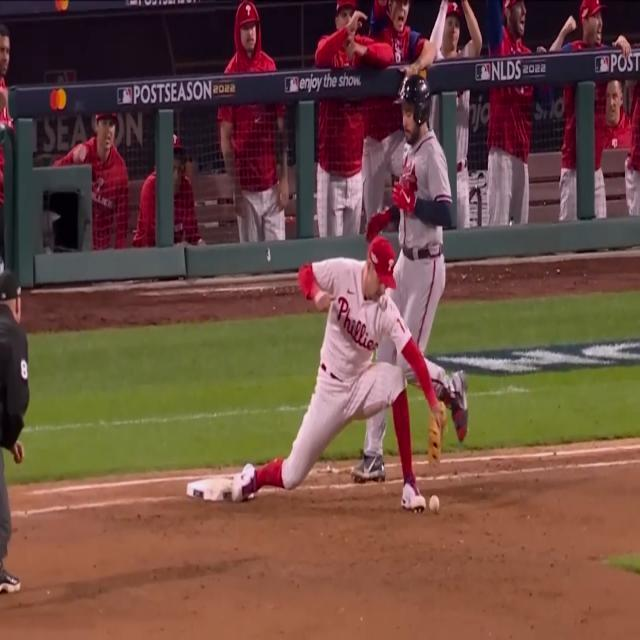ball: (428, 494, 442, 514)
